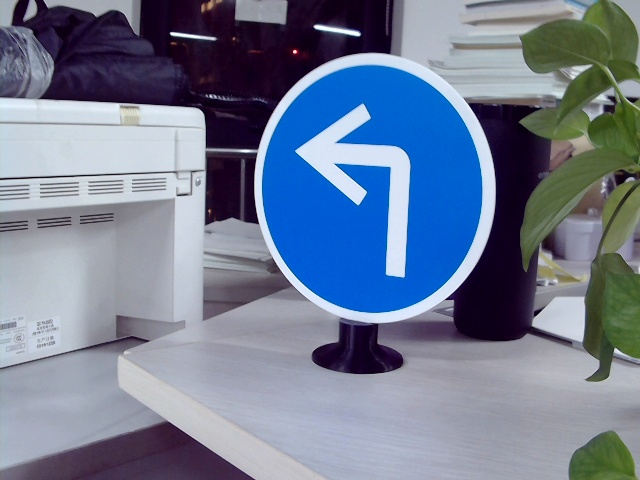turn_left: (299, 95, 417, 275)
